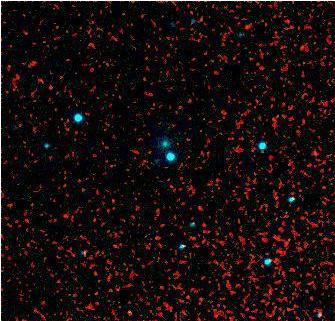star: (117, 296, 147, 321)
